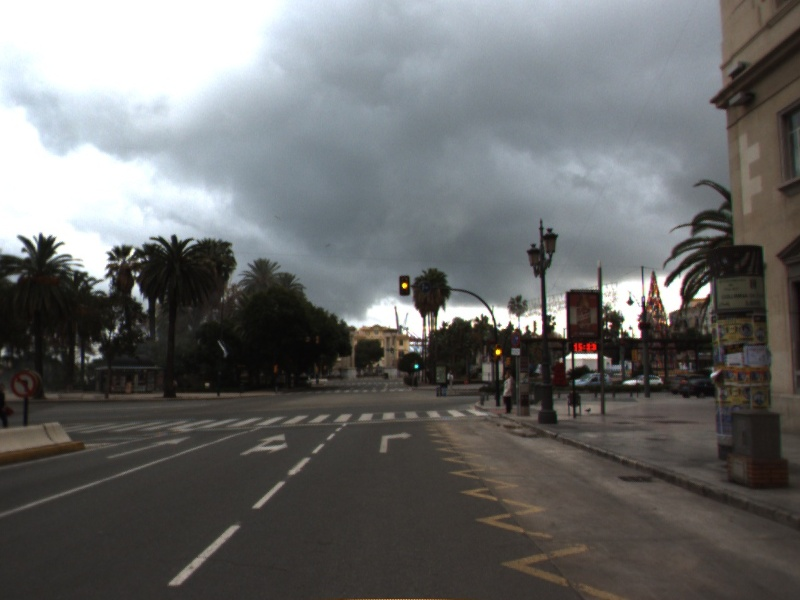RIGHT: (377, 429, 415, 455)
STRAIGHT: (104, 434, 194, 461)
STRAIGHT_RIGHT: (237, 431, 290, 457)
